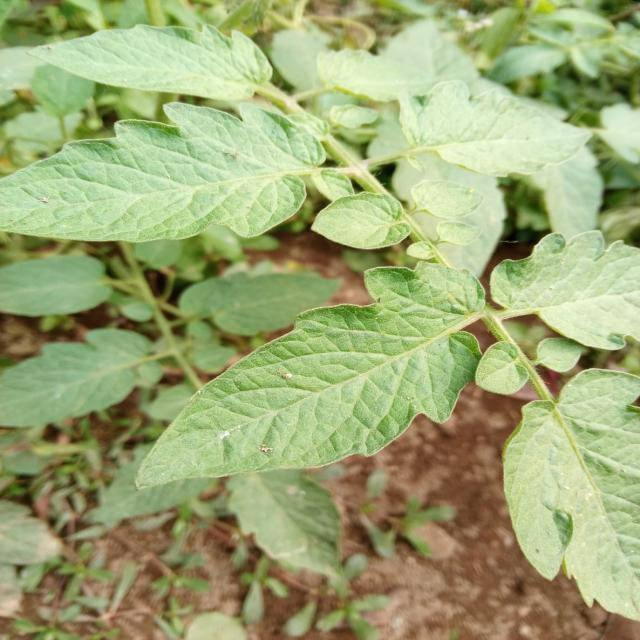Healthy: (108, 225, 531, 578), (0, 98, 327, 246), (503, 369, 639, 619), (386, 68, 593, 196)
